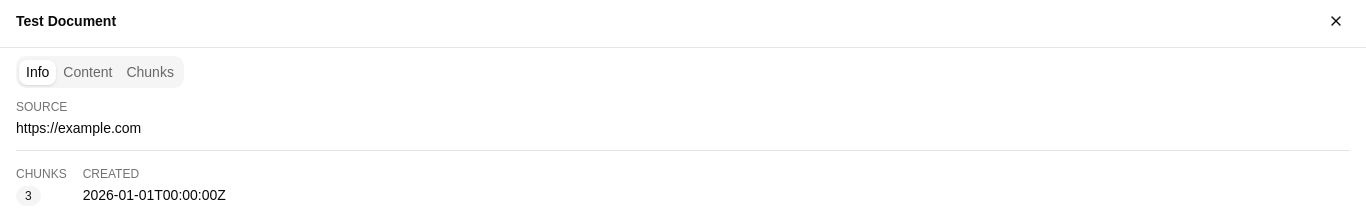
Scenario: DocumentDetail › renders Content tab when clicked
Click the tab "Content" at (88, 72), box [56, 60, 119, 84]
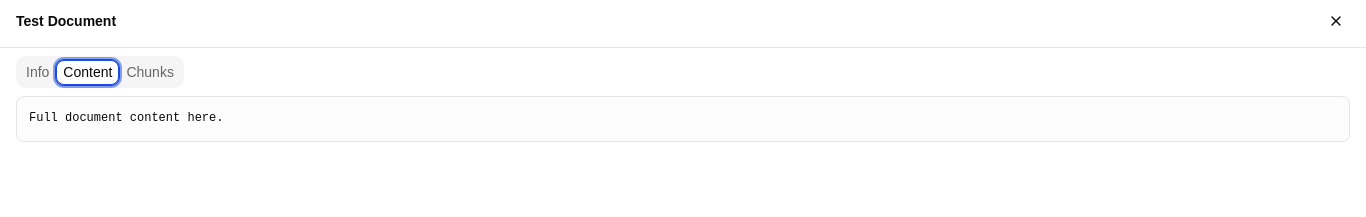
Result: the text "Full document content here." is shown at [29, 111, 223, 125]
